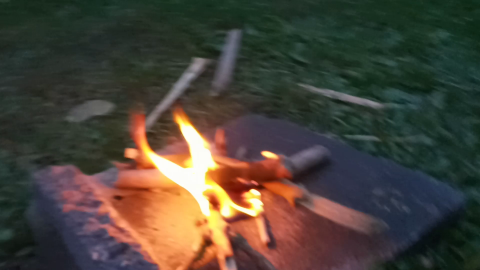fire: (128, 104, 236, 206)
